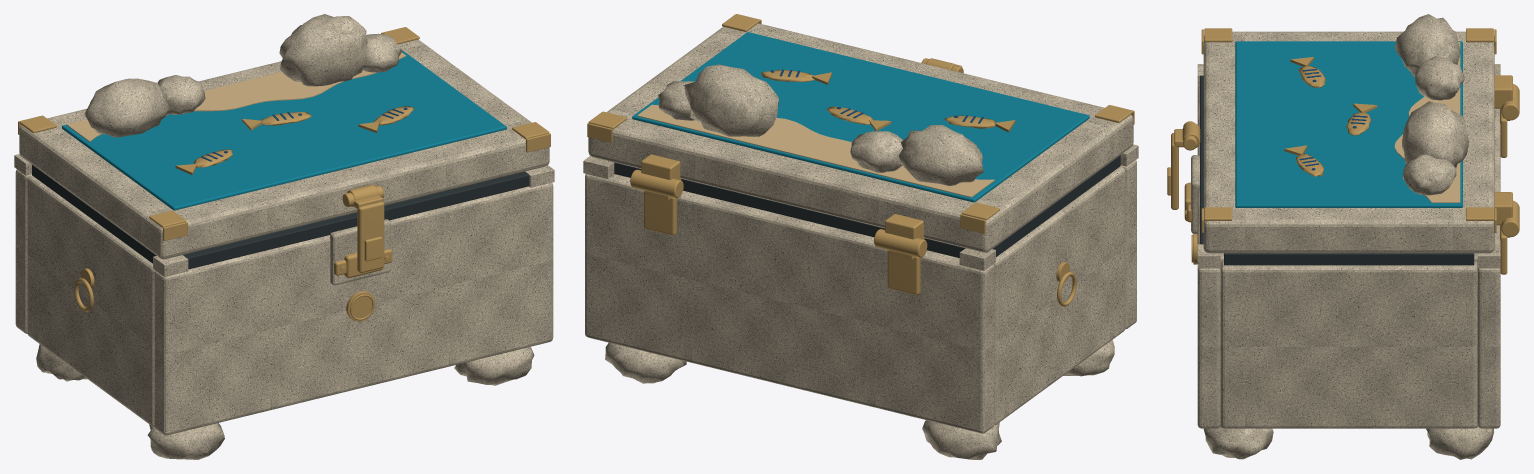
Rendered from malawi.glb.
3 renders of one model, left to right at view 1: azimuth 30°, elevation 25°; view 2: azimuth 150°, elevation 25°; view 3: azimuth 270°, elevation 25°, orthographic. The views are drawn at different scales.
Visible parts, largest first — view 1: Granite / front, Lake / enamel inset, Lid / polished slab, Granite / side, Mineral seam / long, Shore boulder / 2, Shore boulder / 0, Shore / sandy bay, Granite / rear, Granite foot, Granite foot.002, Latch / lifting hasp (+7 smaller); view 2: Granite / rear, Lid / polished slab, Lake / enamel inset, Granite / side, Shore boulder / 2, Shore / sandy bay, Shore boulder / 0, Mineral seam / long.001, Granite foot.001, Granite foot.003, Granite / front, Shore boulder / 1 (+11 smaller); view 3: Granite / side.001, Lake / enamel inset, Lid / polished slab, Granite / rear, Granite / front, Mineral seam / side.001, Shore boulder / 2, Shore boulder / 0, Granite foot.002, Granite foot.003, Shore boulder / 3, Shore boulder / 1 (+17 smaller).
Part boxes in pixels (bbox=[...]): Granite / front: bbox=[154, 182, 553, 435]; Lake / enamel inset: bbox=[62, 51, 506, 210]; Lid / polished slab: bbox=[19, 39, 549, 259]; Granite / side: bbox=[27, 175, 155, 426]; Mineral seam / long: bbox=[183, 171, 529, 269]; Shore boulder / 2: bbox=[279, 14, 367, 86]; Shore boulder / 0: bbox=[84, 78, 169, 137]; Shore / sandy bay: bbox=[66, 52, 406, 141]; Granite / rear: bbox=[15, 169, 31, 333]; Granite foot: bbox=[147, 423, 224, 459]; Granite foot.002: bbox=[454, 347, 534, 385]; Latch / lifting hasp: bbox=[357, 202, 384, 272]; Granite / rear: bbox=[585, 174, 994, 433]; Lid / polished slab: bbox=[588, 23, 1133, 252]; Lake / enamel inset: bbox=[632, 32, 1089, 202]; Granite / side: bbox=[993, 167, 1125, 424]; Shore boulder / 2: bbox=[684, 64, 778, 136]; Shore / sandy bay: bbox=[637, 104, 994, 197]; Shore boulder / 0: bbox=[899, 125, 983, 185]; Mineral seam / long.001: bbox=[614, 162, 965, 257]; Granite foot.001: bbox=[922, 420, 1001, 459]; Granite foot.003: bbox=[605, 343, 686, 383]; Granite / front: bbox=[1120, 160, 1136, 329]; Shore boulder / 1: bbox=[850, 131, 902, 172]; Granite / side.001: bbox=[1220, 261, 1477, 428]; Lake / enamel inset: bbox=[1235, 41, 1462, 207]; Lid / polished slab: bbox=[1203, 31, 1494, 253]; Granite / rear: bbox=[1477, 108, 1500, 428]; Granite / front: bbox=[1197, 88, 1220, 428]; Mineral seam / side.001: bbox=[1224, 253, 1474, 265]; Shore boulder / 2: bbox=[1402, 101, 1468, 167]; Shore boulder / 0: bbox=[1395, 14, 1460, 77]; Granite foot.002: bbox=[1203, 427, 1273, 459]; Granite foot.003: bbox=[1426, 426, 1493, 459]; Shore boulder / 3: bbox=[1403, 154, 1456, 195]; Shore boulder / 1: bbox=[1415, 56, 1464, 100].
Bounding box in the file's own units: 3.79 × 2.82 × 2.88.
Materials: 6 (1 with a texture image).
